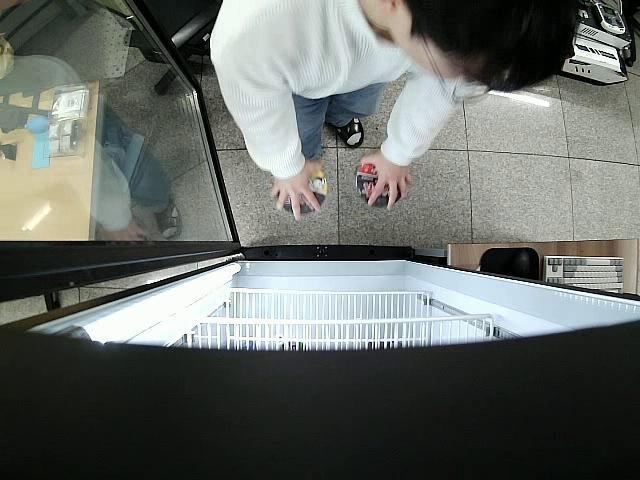07_buldak_L: (282, 172, 327, 216), (353, 164, 398, 207)
